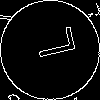L: (25, 25, 76, 63)
